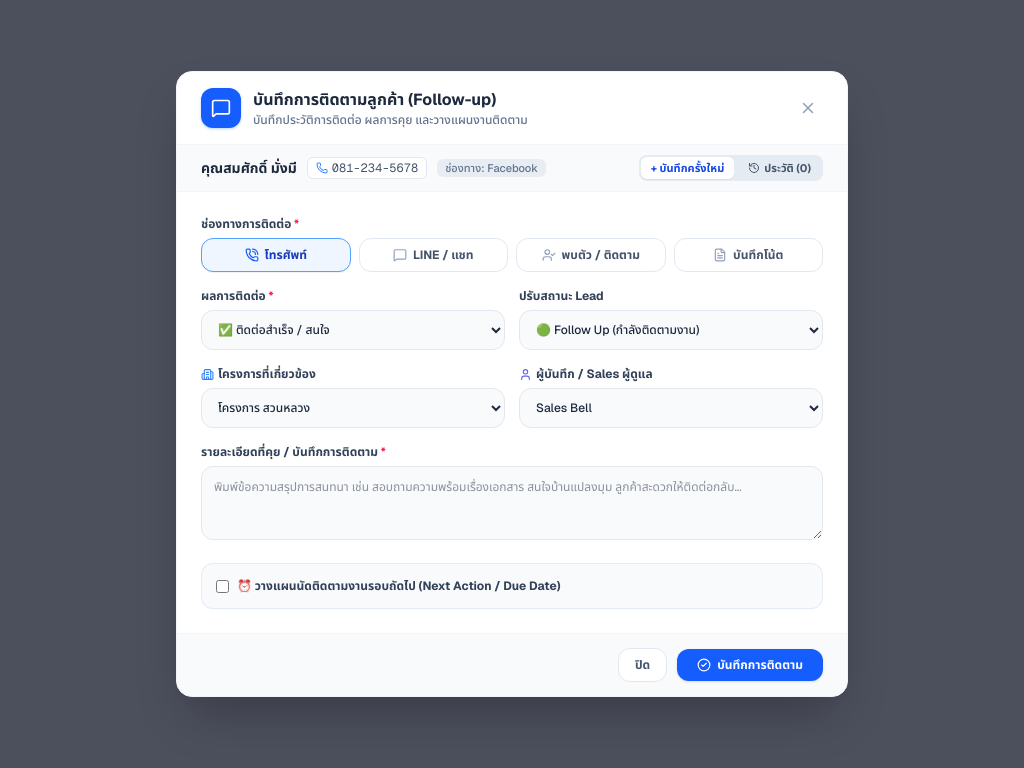
Test: CentralLeadFollowUpModal › can switch to history tab and display past activities
Click the button "ประวัติ (0)" at (780, 168), box [738,157,821,179]
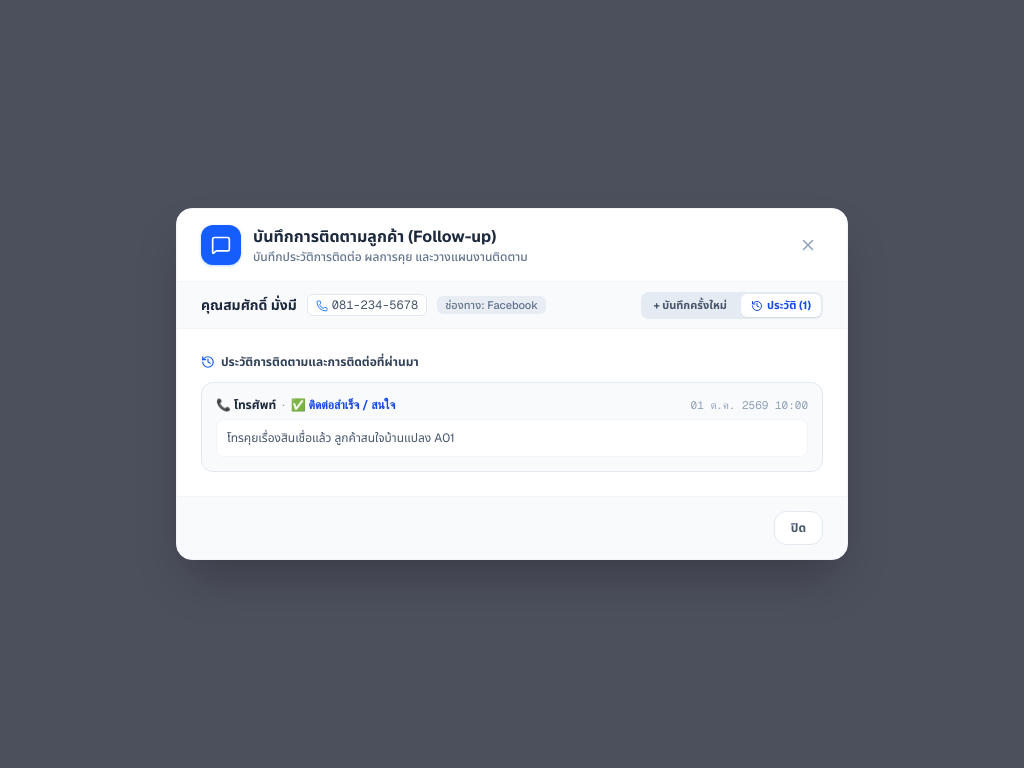
Expected: the heading "ประวัติการติดตามและการติดต่อที่ผ่านมา" is shown, [201,354,419,370]
Expected: the text "โทรคุยเรื่องสินเชื่อแล้ว ลูกค้าสนใจบ้านแปลง A01" is shown, [216,419,808,457]
